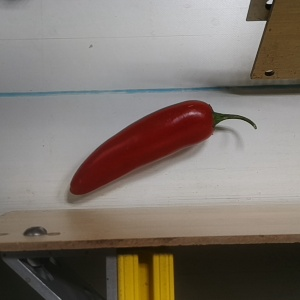Cut Point: (197, 98, 225, 141)
